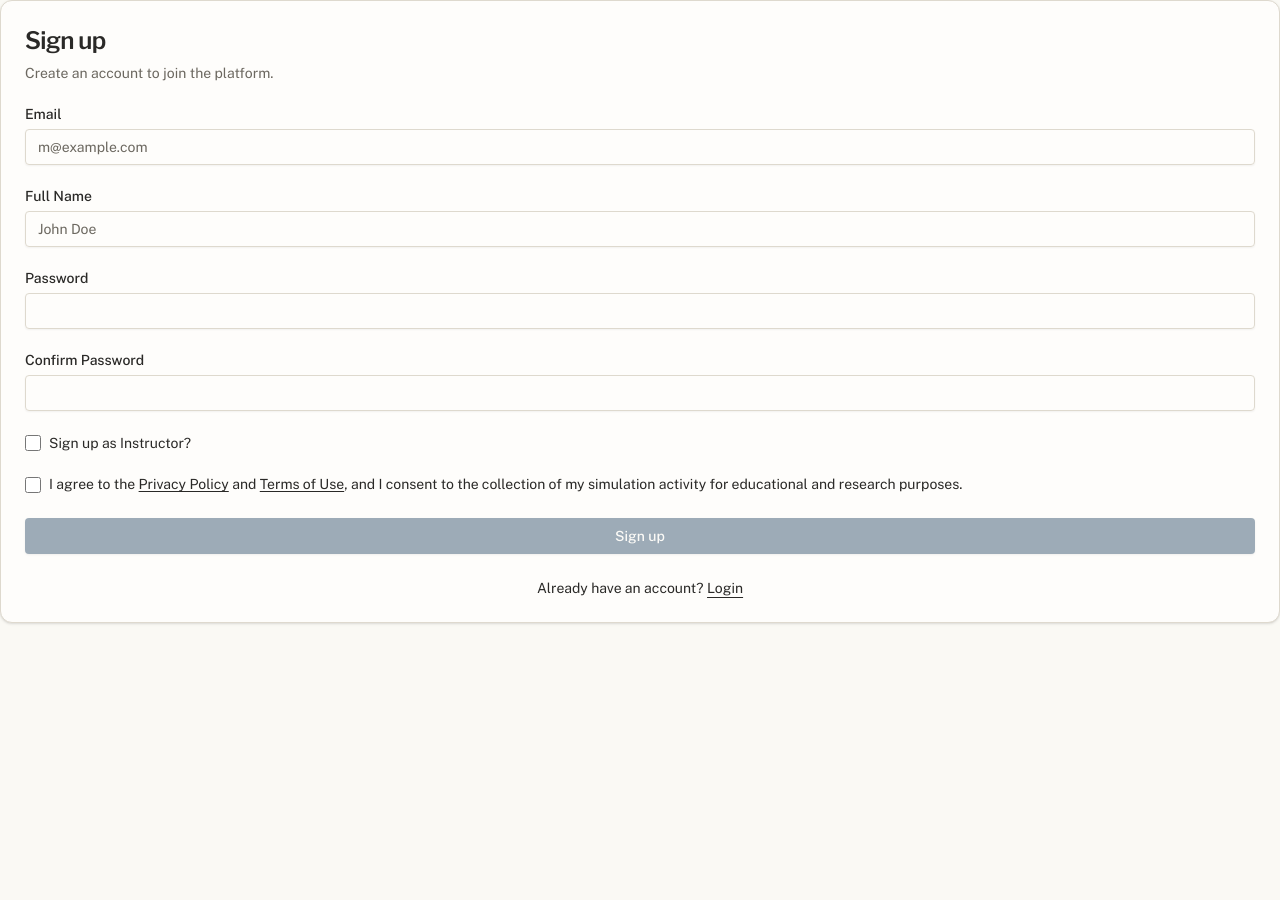
it: SignUpForm Component › shows the email verification state after successful signup
Type "Test User" into the field labelled "Full Name" at (640, 229), box [25,211,1255,247]
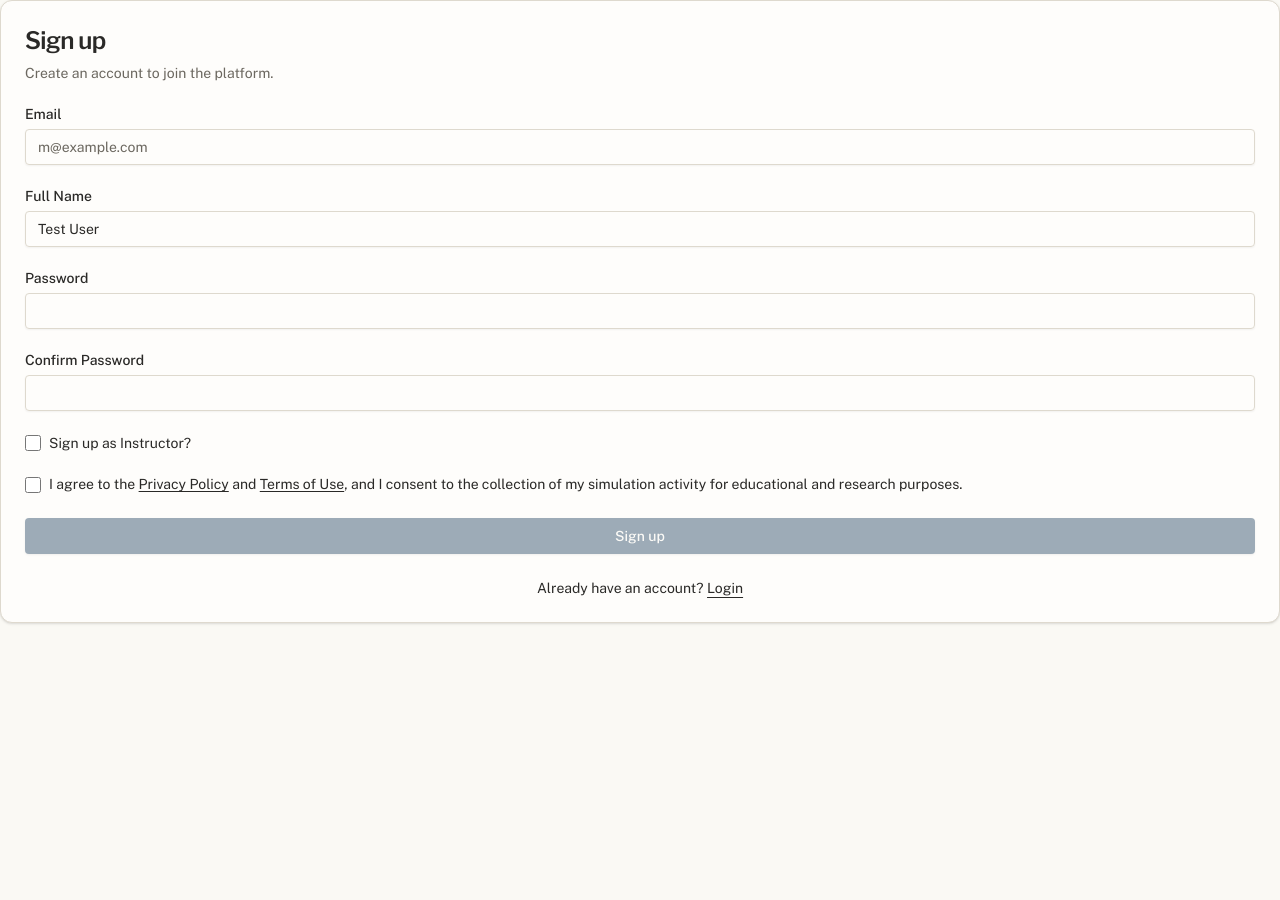
Type "test@example.com" into the field labelled "Email" at (640, 147), box [25,129,1255,165]
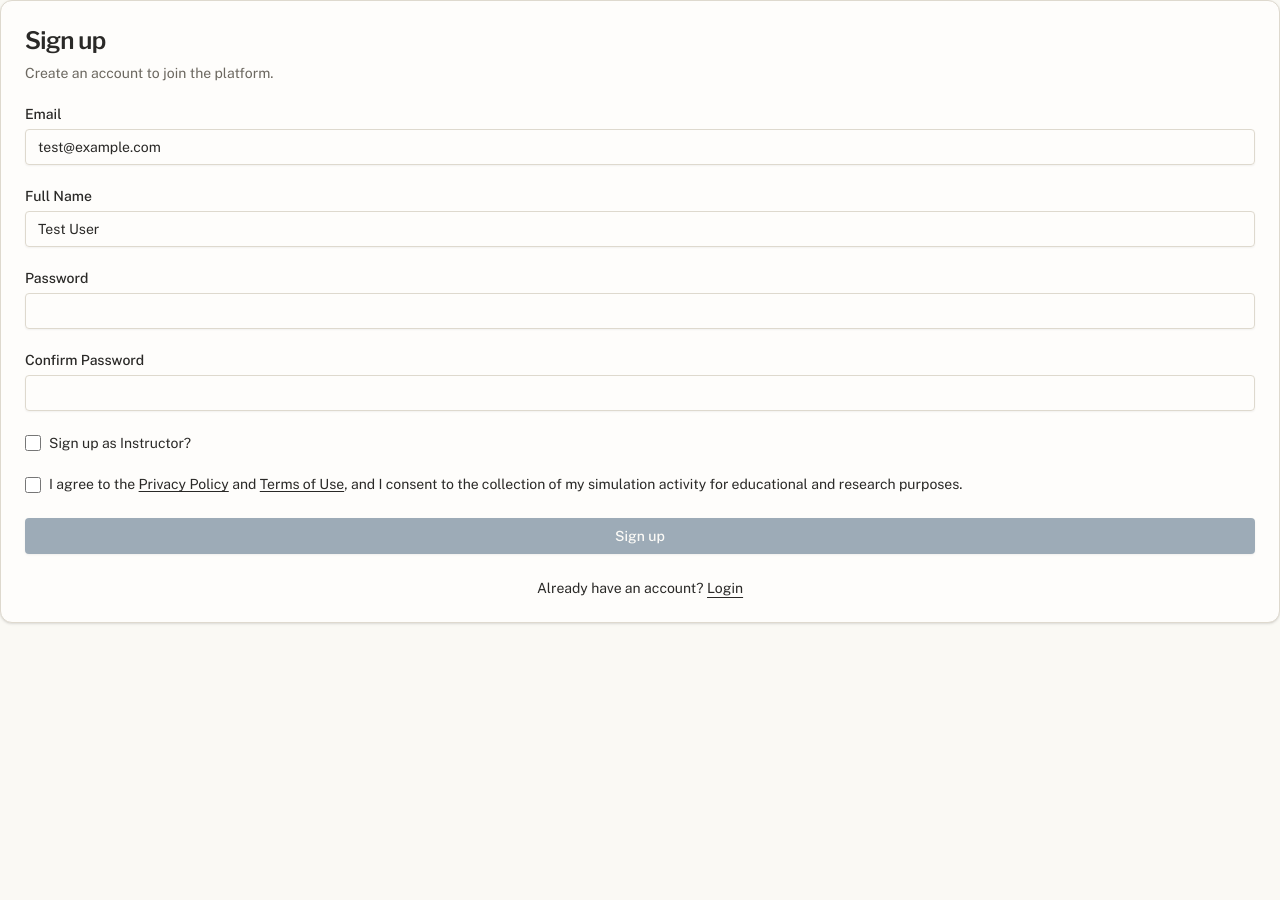
Type "password123" into the password field labelled "Password" at (640, 311), box [25,293,1255,329]
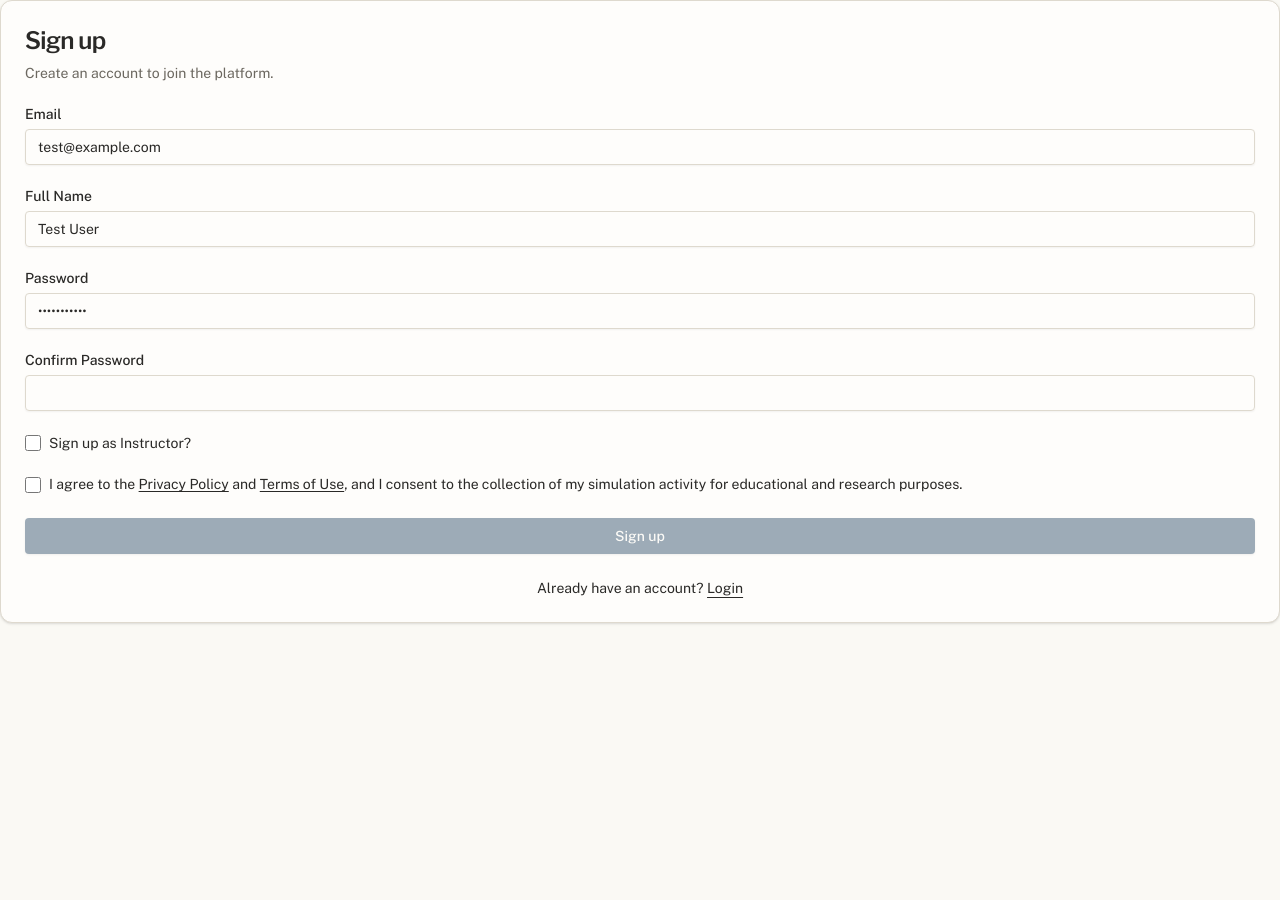
Type "password123" into the password field labelled "Confirm Password" at (640, 393), box [25,375,1255,411]
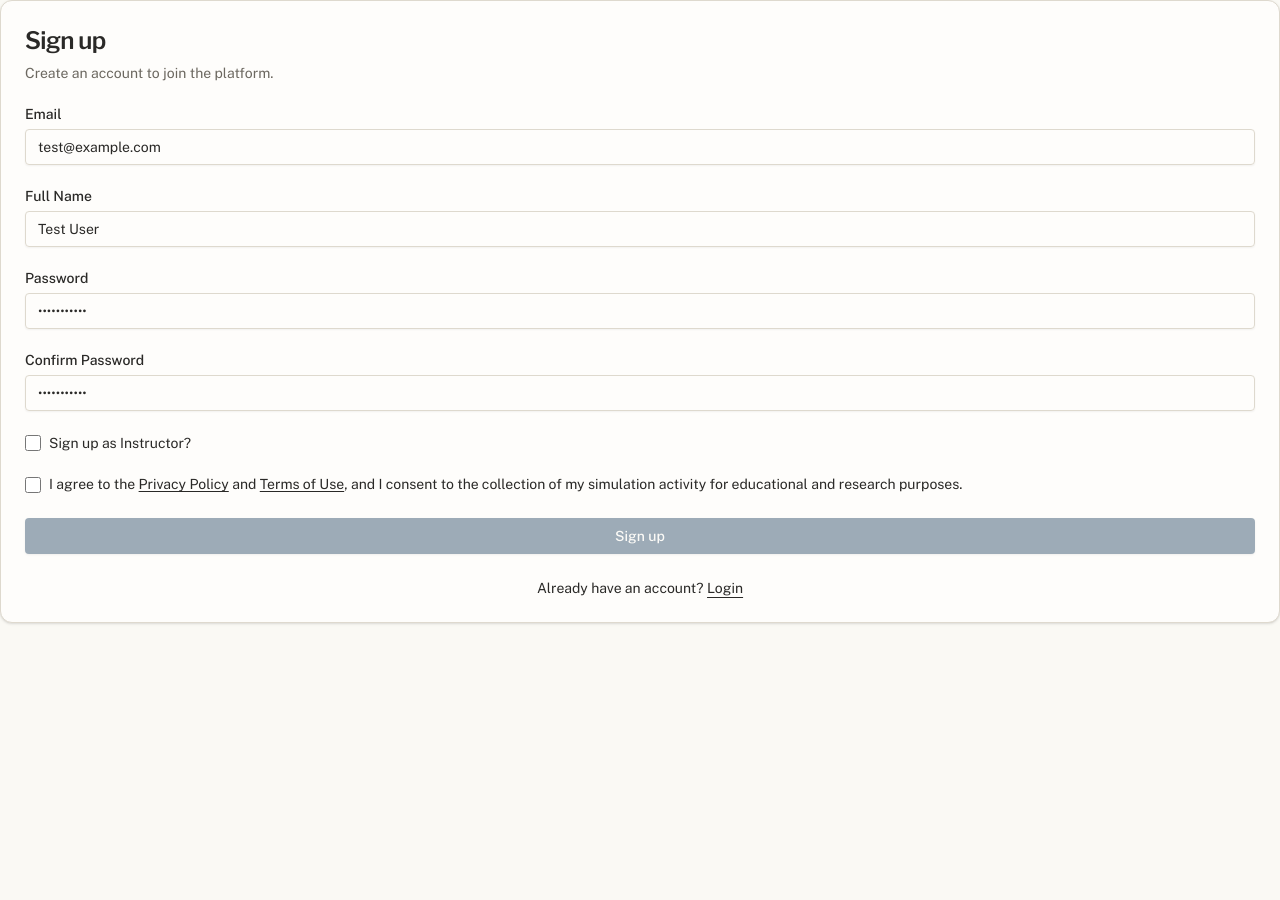
Click the checkbox labelled "I agree to the" at (33, 485), box [25,477,41,493]
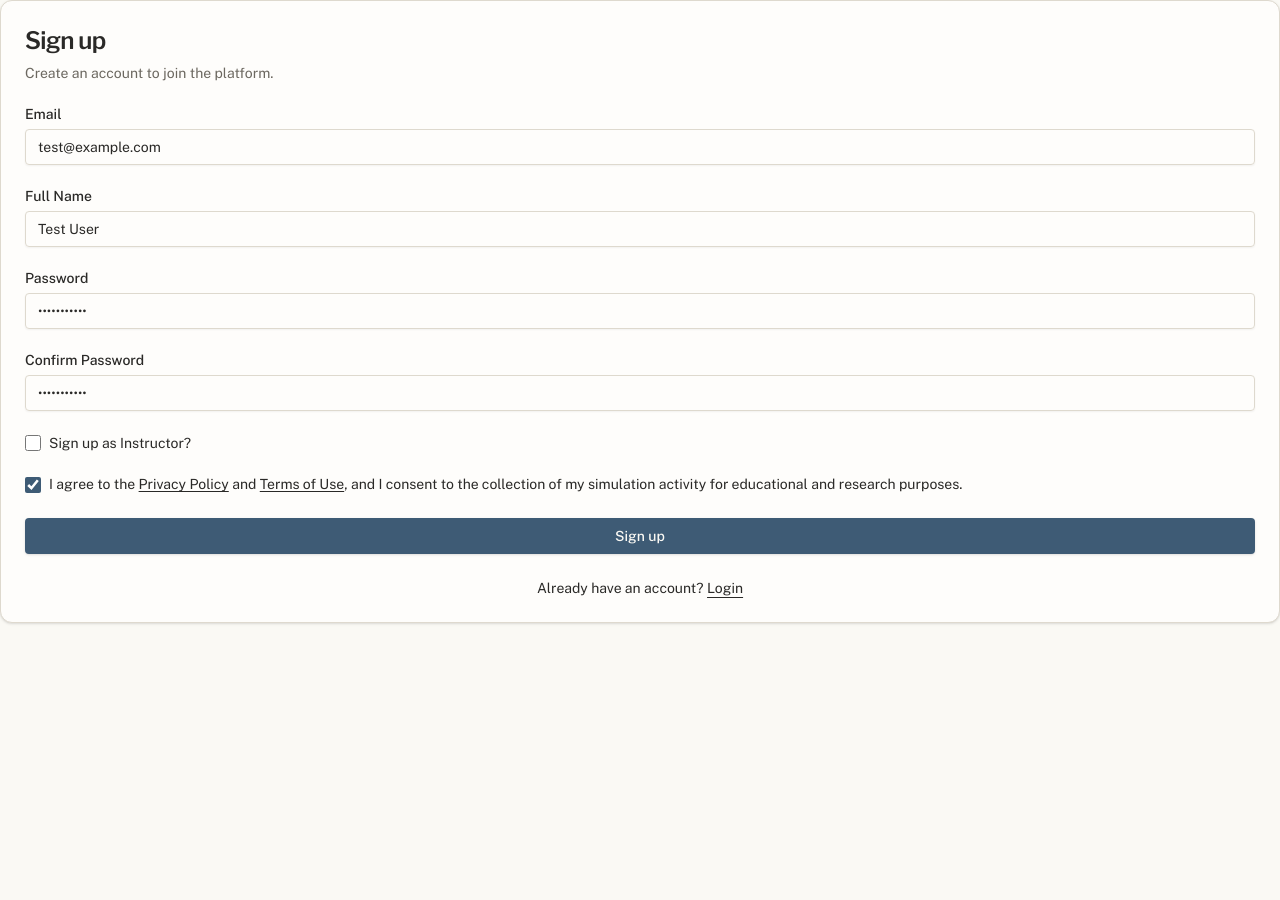
Submit the form "Sign up", box [25,107,1255,598]
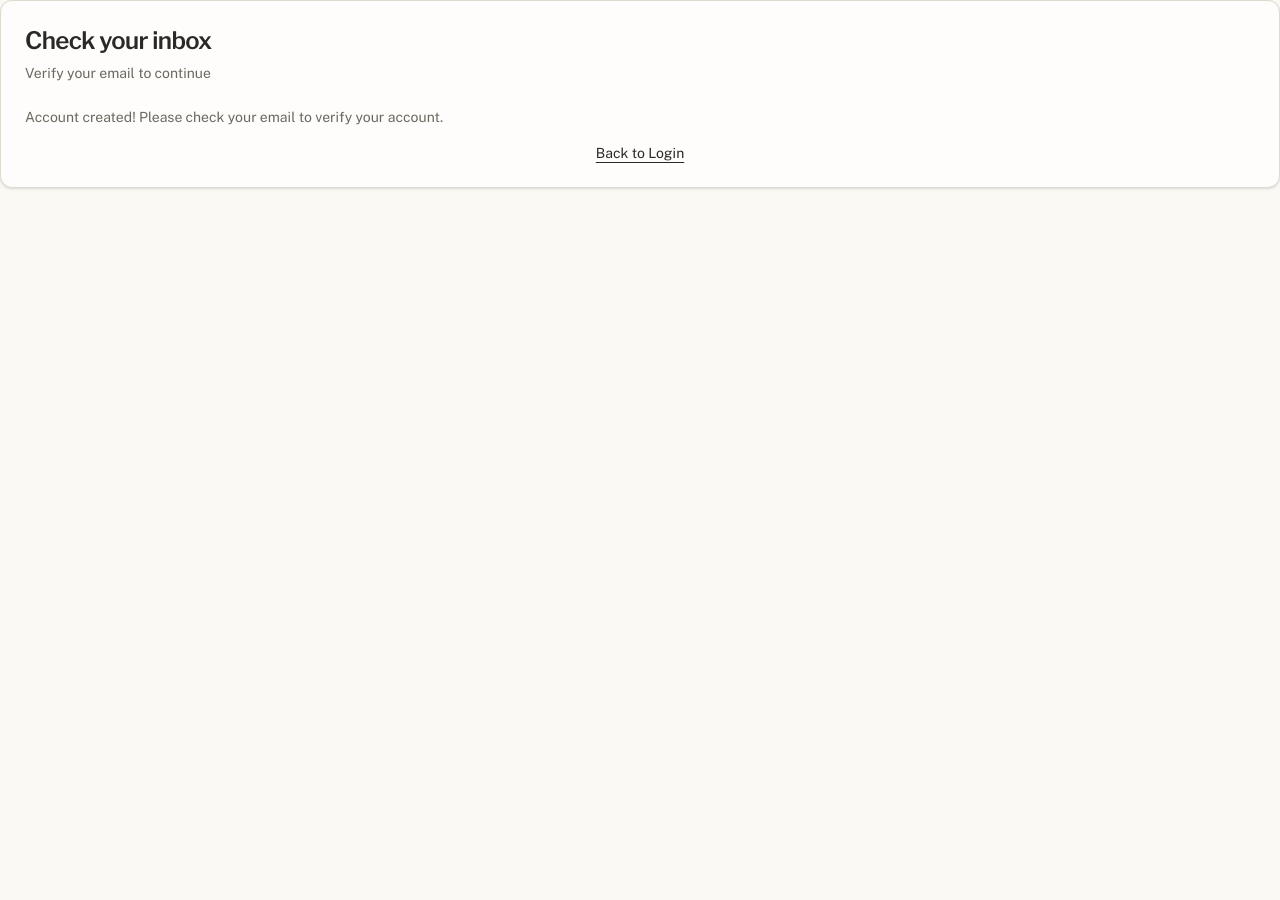
Expected: the heading "Check your inbox" is shown, [25,26,211,55]
